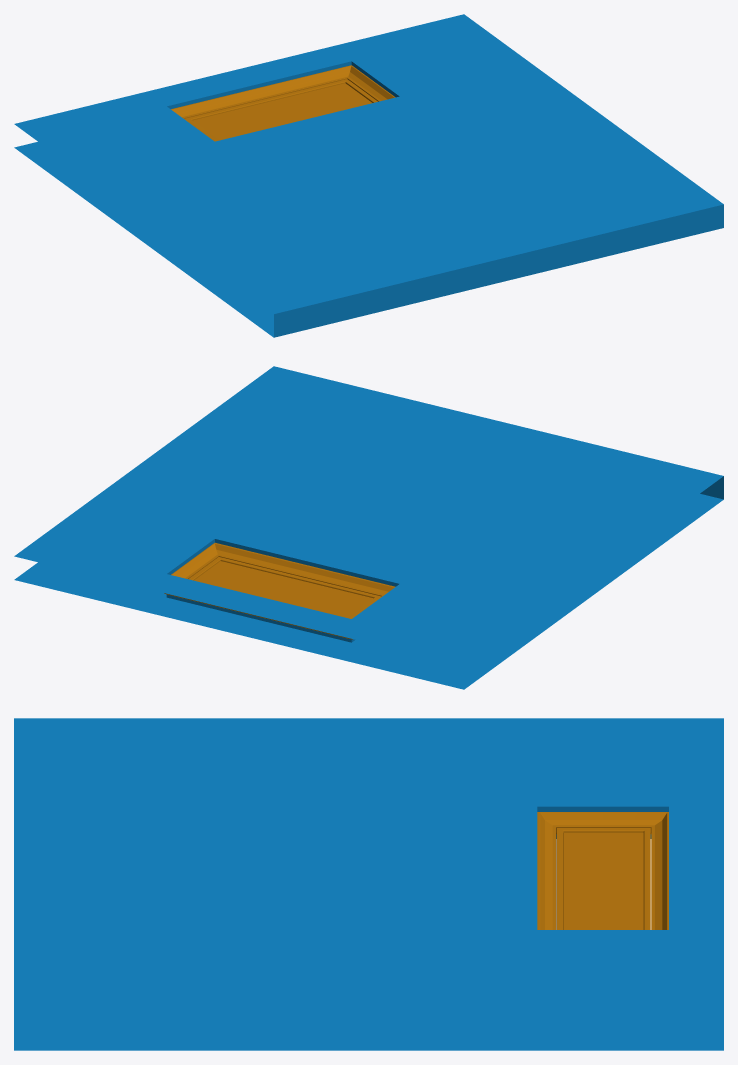
File: SM_Wall_02.fbx
3 views of the same model, one above another, from view 1: azimuth 30°, elevation 25°; view 2: azimuth 150°, elevation 25°; view 3: azimuth 270°, elevation 25° (orthographic). The views are drawn at different scales.
Visible parts, largest first — view 1: SM_Wall_02; view 2: SM_Wall_02; view 3: SM_Wall_02.
Part boxes in pixels (bbox=[...]): SM_Wall_02: bbox=[14, 14, 723, 337]; SM_Wall_02: bbox=[14, 366, 723, 689]; SM_Wall_02: bbox=[14, 718, 723, 1050].
Bounding box in the file's own units: 300 × 15 × 300.
